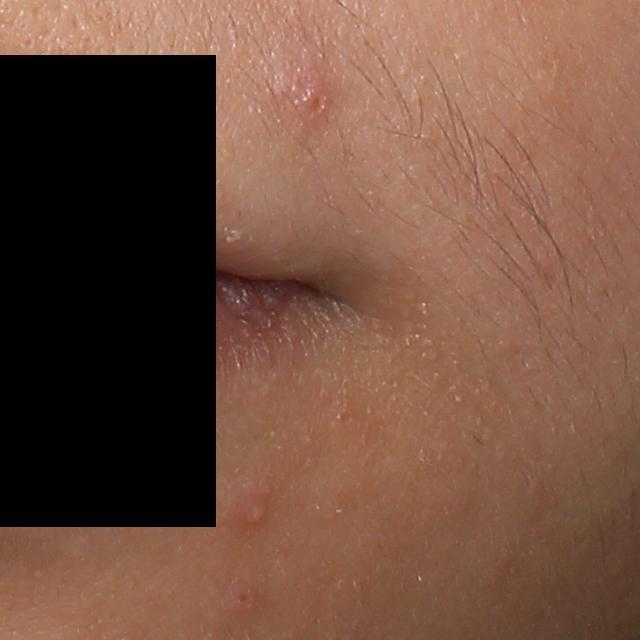papule: (295, 67, 335, 134), (223, 577, 267, 622)
